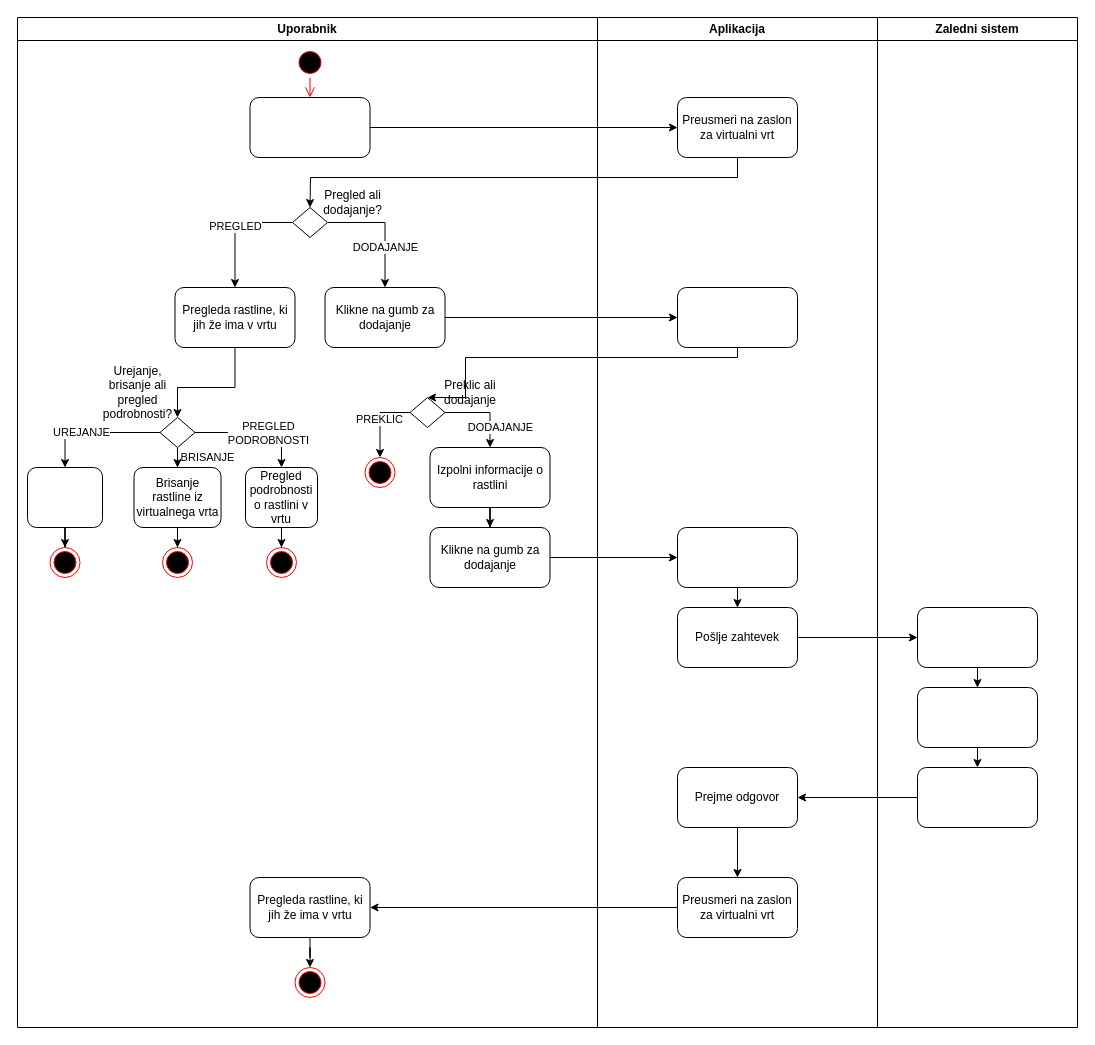
This 1095x1045 diagram has some shape labels left out. The centre of each missing label's shape, as x and y in pixels:
Klikne na gumb za virtualni vrt: pixel 309 127
Prejme zahtevek: pixel 977 637
Preusmeri na zaslon za dodajanje rastline: pixel 737 317
Shrani rastlino v PB: pixel 977 717
Urejanje podrobnosti rastline v vrtu: pixel 64 497
Ustvari objekt za shranjevanje rastline: pixel 737 557
Vrne odgovor o statusu shranjevanja: pixel 977 797
